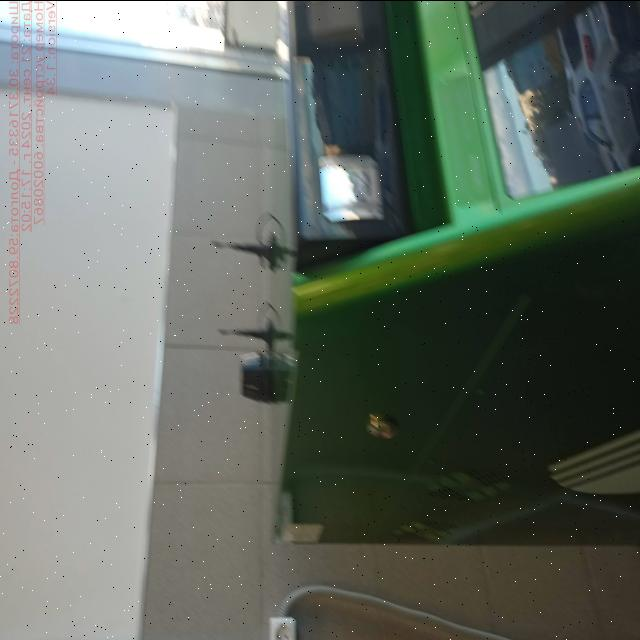bank: (267, 1, 640, 558)
